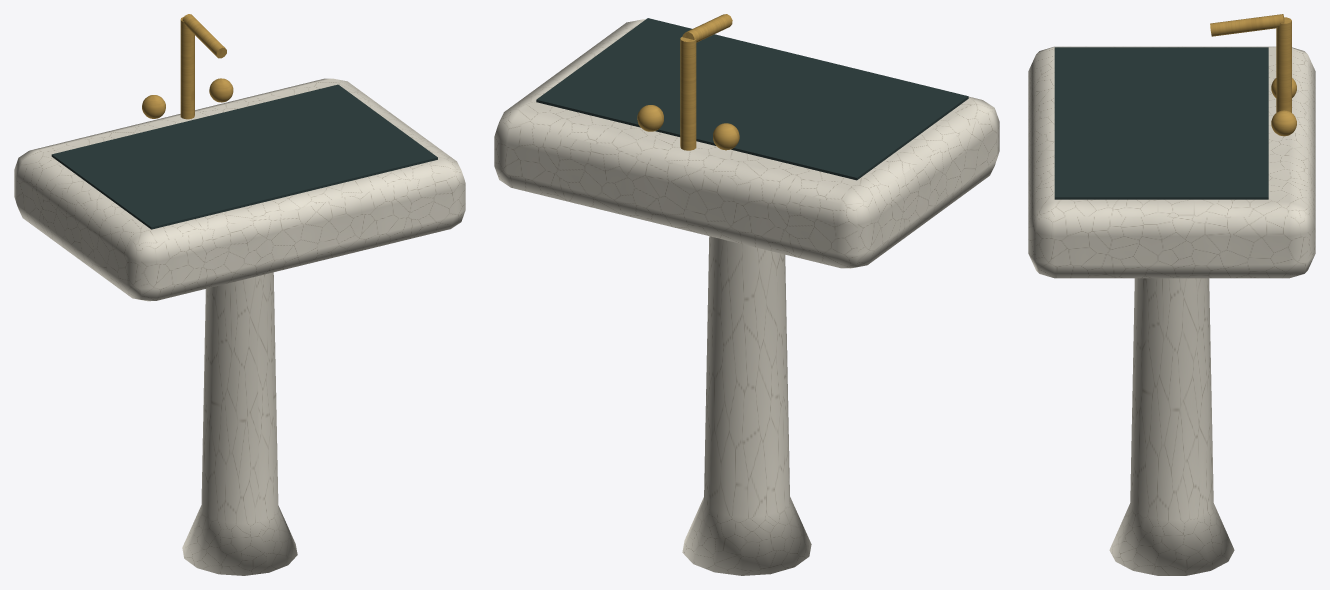
The model's file is sink.glb.
3 renders of one model, left to right at view 1: azimuth 30°, elevation 25°; view 2: azimuth 150°, elevation 25°; view 3: azimuth 270°, elevation 25°, orthographic. The views are drawn at different scales.
Visible parts, largest first — view 1: sink; view 2: sink; view 3: sink.
Boxes of the visible parts, <box> form: sink: <box>14,14,465,575</box>; sink: <box>494,14,999,575</box>; sink: <box>1028,14,1315,575</box>.
Bounding box in the file's own units: 0.8004 × 1.13 × 0.5503.
Materials: 3 (2 with a texture image).
